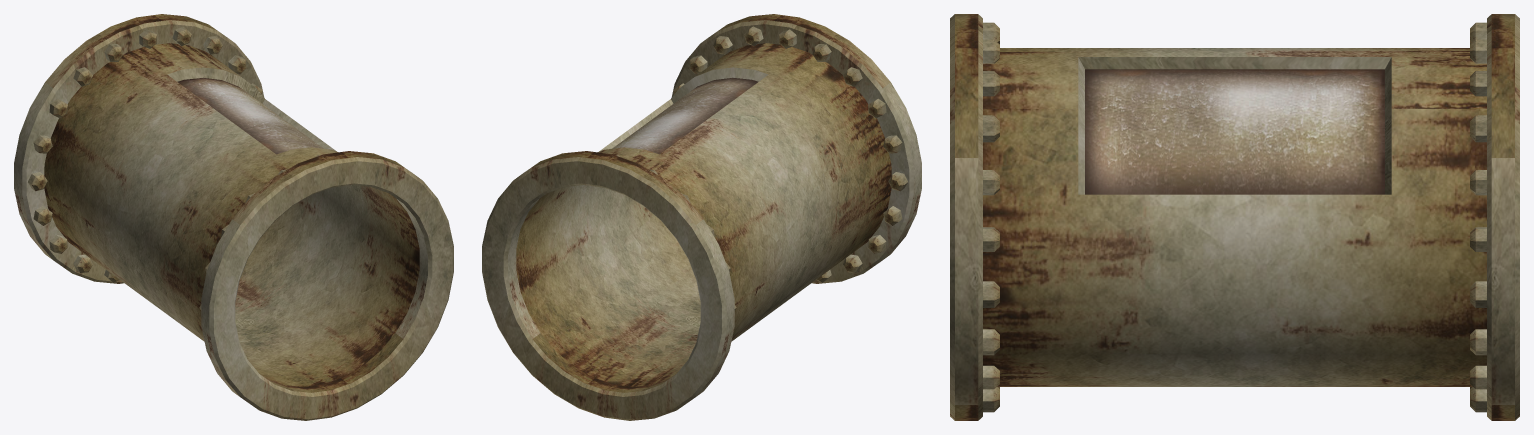
Rendered from pipe-I.fbx.
The picture shows the model from 3 angles, left to right: view 1: azimuth 30°, elevation 25°; view 2: azimuth 150°, elevation 25°; view 3: azimuth 270°, elevation 25°; orthographic projection. The views are drawn at different scales.
Parts seen in each view (by area): view 1: Boole, Tube; view 2: Boole, Tube; view 3: Boole, Tube, Cylinder_18, Cylinder_15, Cylinder_14, Cylinder_19, Cylinder_17, Cylinder_16, Cylinder_0, Cylinder_13, Cylinder_12, Cylinder_1.
Part boxes in pixels (x1,y1,x2,y2): Boole: (44,43,419,386); Tube: (14,14,453,420); Boole: (516,43,891,386); Tube: (482,14,921,420); Boole: (983,48,1486,386); Tube: (950,14,1519,420); Cylinder_18: (983,115,1486,142); Cylinder_15: (983,281,1486,307); Cylinder_14: (983,329,1486,355); Cylinder_19: (983,71,1486,96); Cylinder_17: (983,170,1486,195); Cylinder_16: (983,227,1486,251); Cylinder_0: (983,39,1486,63); Cylinder_13: (983,365,1486,389); Cylinder_12: (983,387,1486,410); Cylinder_1: (983,22,1486,43).
Size of the model in its own units: 143 by 144 by 202.
Materials: 2 (2 with a texture image).
